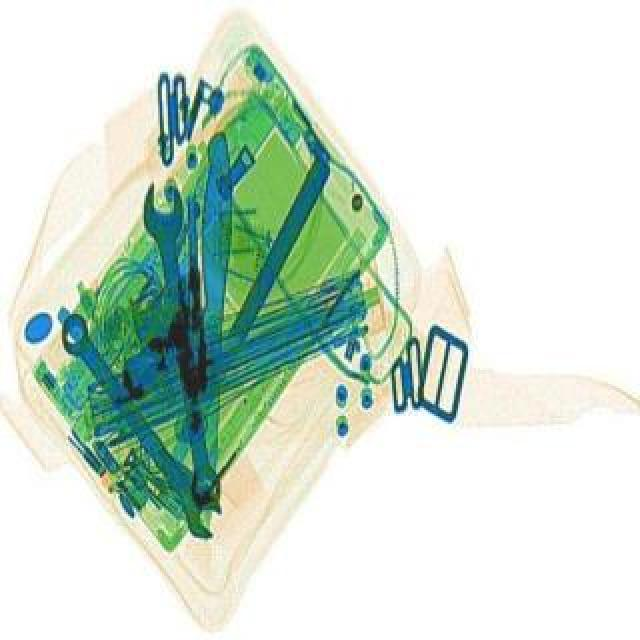gun: (112, 196, 208, 386)
knife: (148, 156, 334, 490), (192, 130, 236, 522)
scissors: (44, 302, 236, 542), (136, 176, 232, 506)
